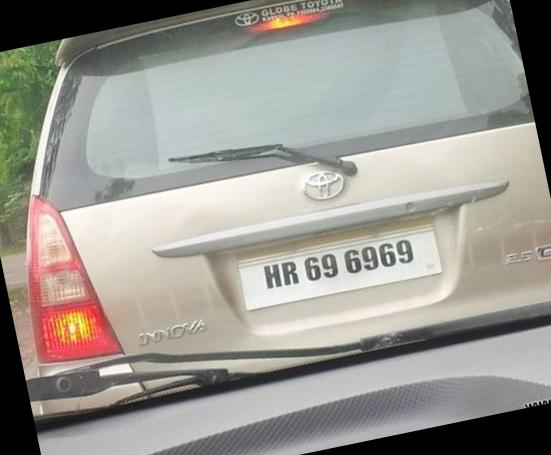plate: (230, 206, 458, 322)
